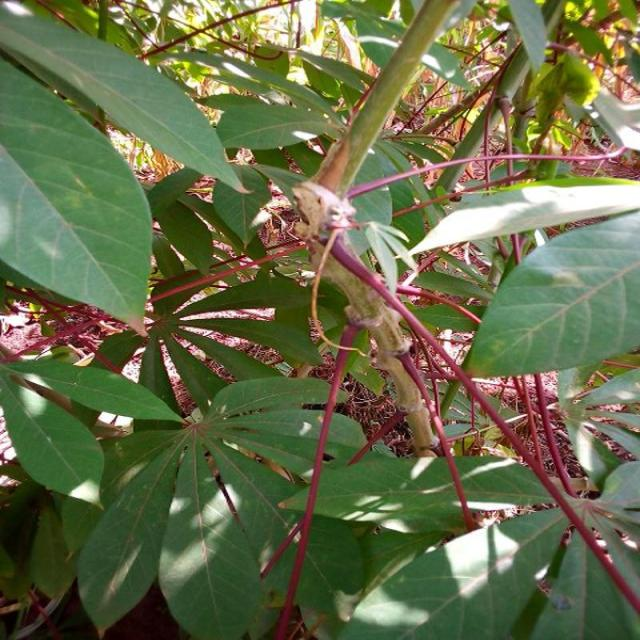cassava leaf: (2, 5, 254, 196), (1, 54, 154, 334), (460, 207, 640, 381)
